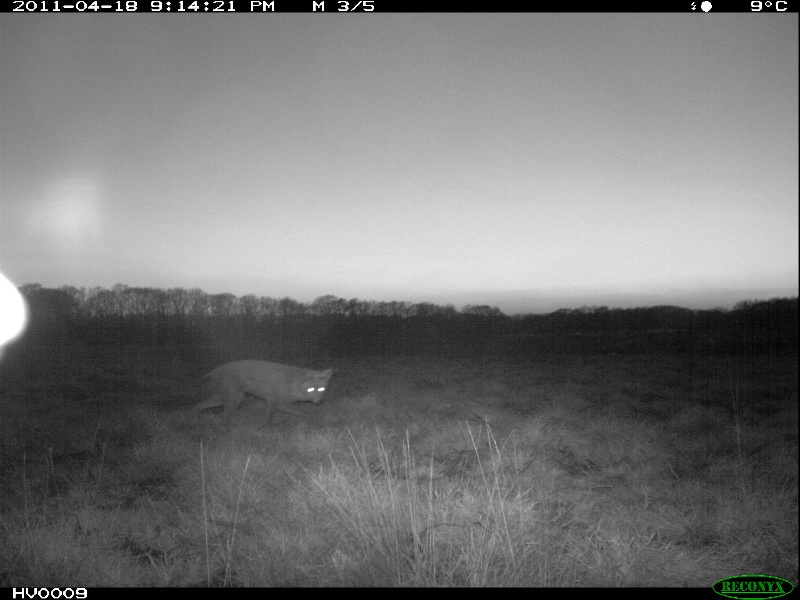fox: (184, 358, 336, 426)
